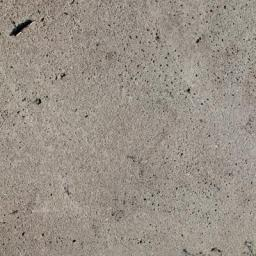FOD: (12, 18, 39, 41)
